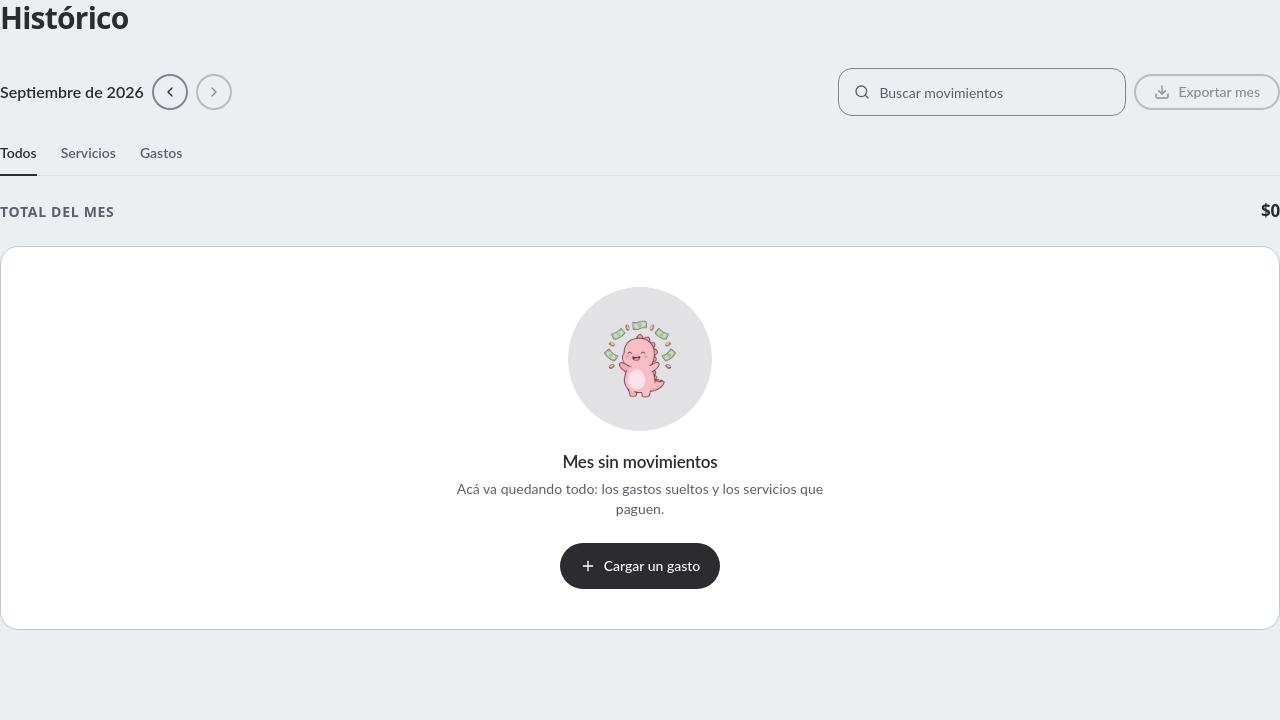
Test: HistoricoPage › opens the shared sheet from an empty month
Click the button "Cargar un gasto" at x=640, y=566, box left=560, top=543, right=720, bottom=589
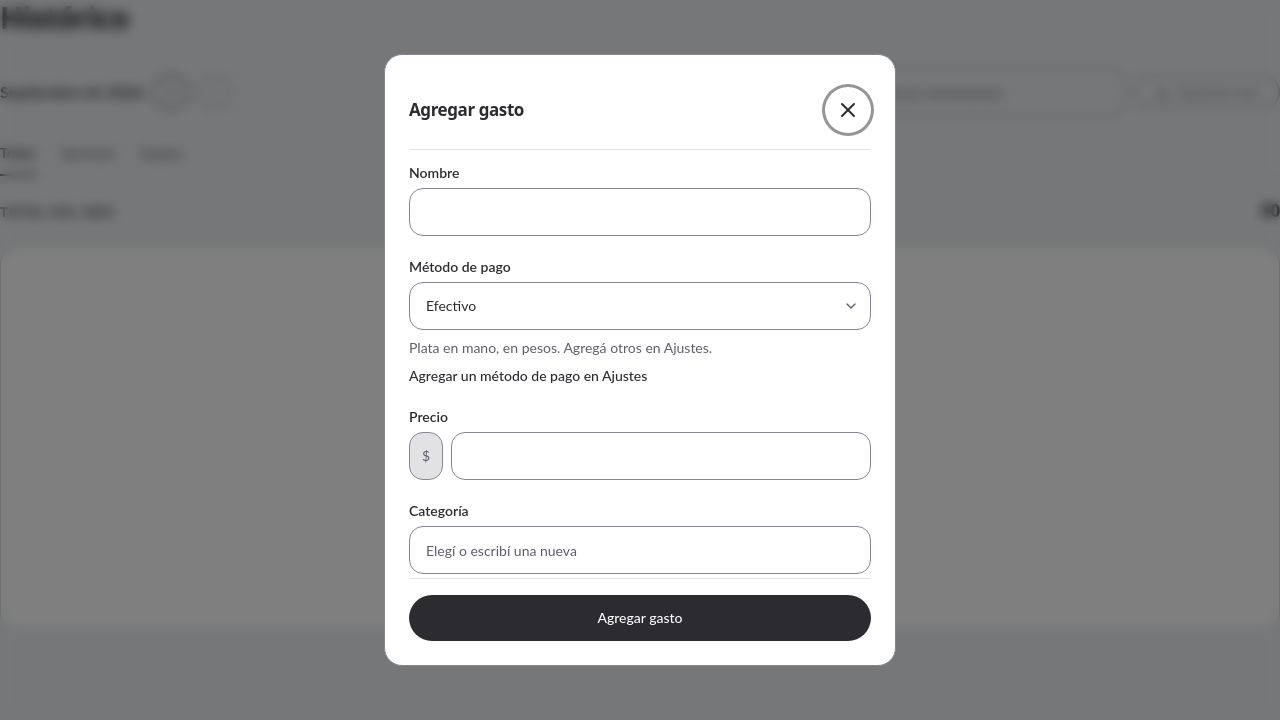
Check: the field labelled "Nombre" is shown, box left=409, top=188, right=871, bottom=236
Check: the field labelled "Precio" is shown, box left=451, top=432, right=871, bottom=480
